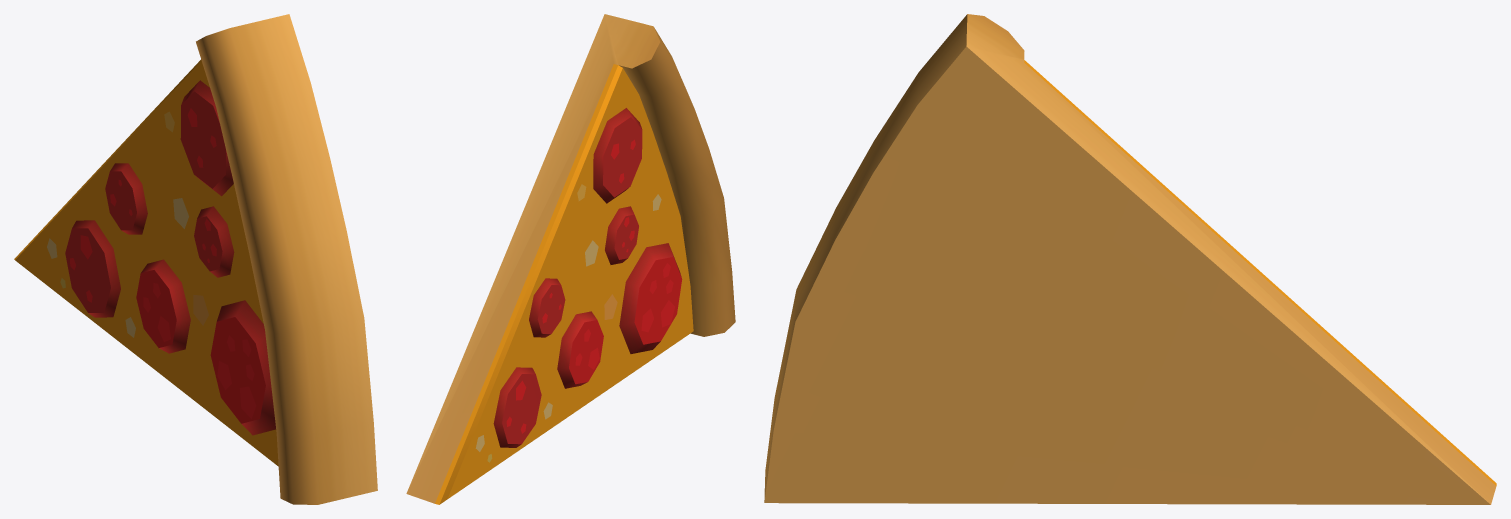
File: PizzaSign_2_A.fbx
3 views of the same model, side by side, from view 1: azimuth 30°, elevation 25°; view 2: azimuth 150°, elevation 25°; view 3: azimuth 270°, elevation 25° (orthographic). The views are drawn at different scales.
Parts seen in each view (by area): view 1: PizzaSign_2_A; view 2: PizzaSign_2_A; view 3: PizzaSign_2_A.
Part boxes in pixels (<box>): PizzaSign_2_A: <box>14,14,377,504</box>; PizzaSign_2_A: <box>406,14,735,504</box>; PizzaSign_2_A: <box>764,14,1496,504</box>.
Size of the model in its own units: 50.67 by 248 by 352.
